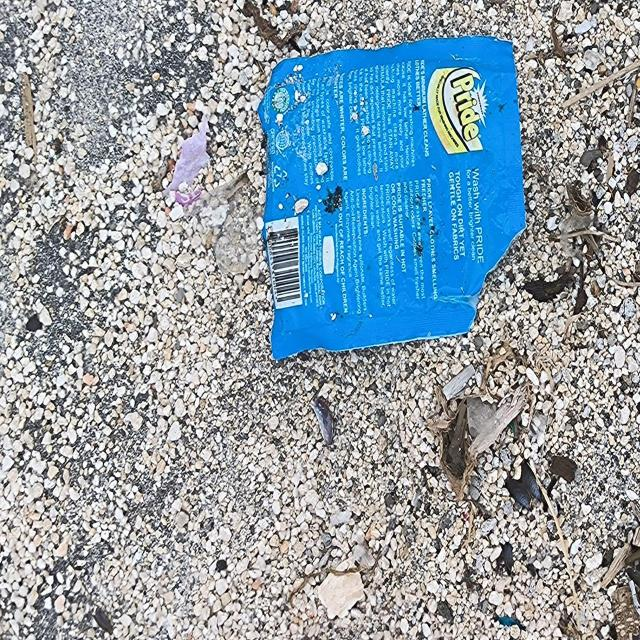litter: (266, 37, 526, 357)
